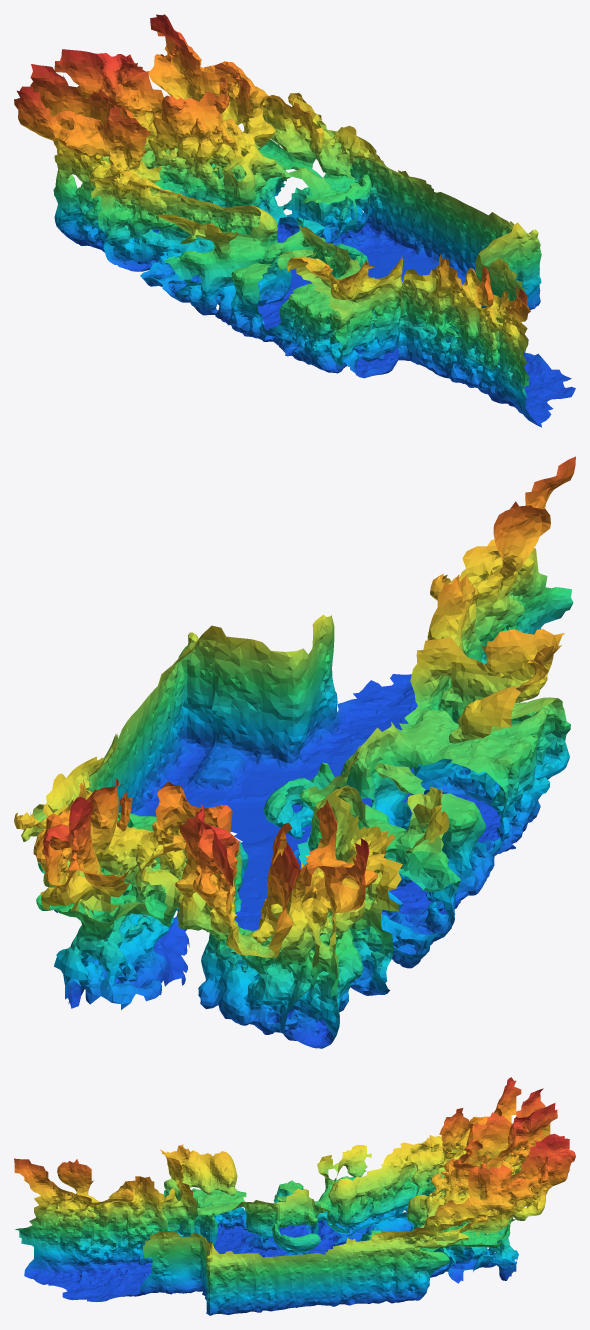
File: room-exploration-50_surface.obj
3 renders of one model, top to bottom at view 1: azimuth 30°, elevation 25°; view 2: azimuth 150°, elevation 25°; view 3: azimuth 270°, elevation 25°, orthographic. The views are drawn at different scales.
Bounding box in the file's own units: 4.41 × 2.33 × 8.56.
1 material, 1 textured.
